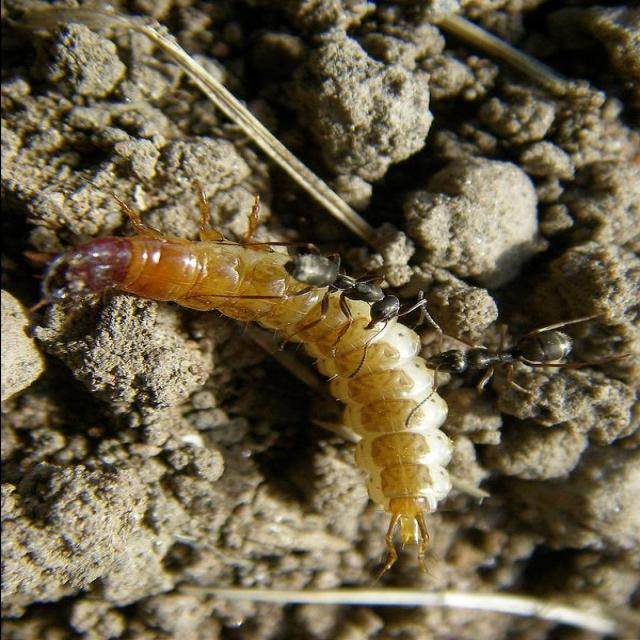grub: (42, 236, 470, 543)
